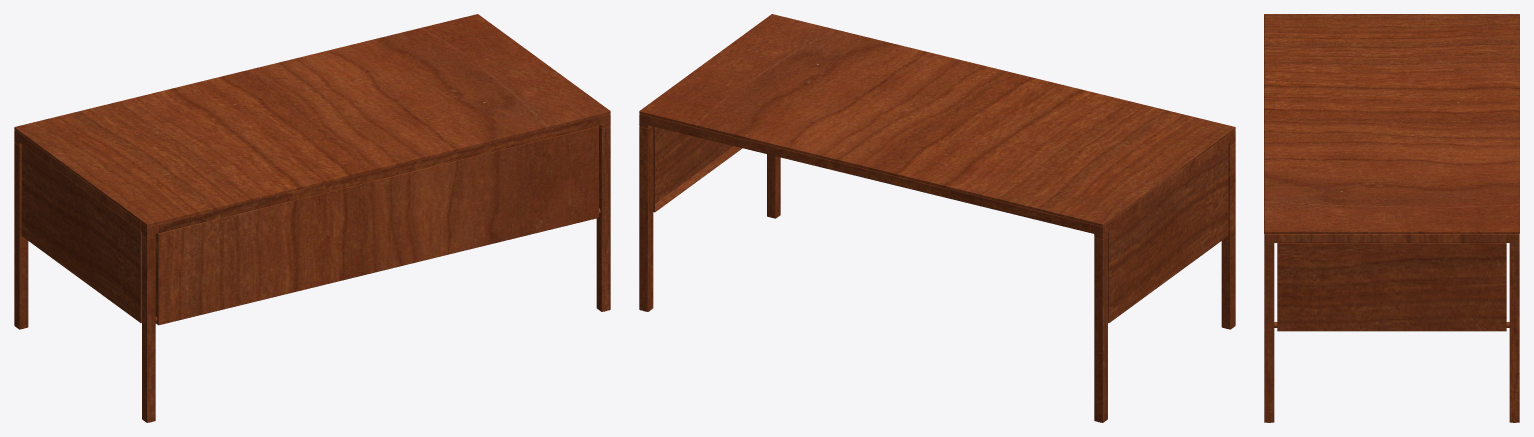
The model's file is desk_02.fbx.
The picture shows the model from 3 angles, left to right: view 1: azimuth 30°, elevation 25°; view 2: azimuth 150°, elevation 25°; view 3: azimuth 270°, elevation 25°; orthographic projection. The views are drawn at different scales.
Parts seen in each view (by area): view 1: Helsinki_Office_35_Desk_System_180x90; view 2: Helsinki_Office_35_Desk_System_180x90; view 3: Helsinki_Office_35_Desk_System_180x90.
Boxes of the visible parts, x1,y1,x2,y2 form: Helsinki_Office_35_Desk_System_180x90: (14, 14, 610, 422); Helsinki_Office_35_Desk_System_180x90: (639, 14, 1235, 422); Helsinki_Office_35_Desk_System_180x90: (1264, 14, 1519, 422).
Size of the model in its own units: 254 by 104 by 126.
